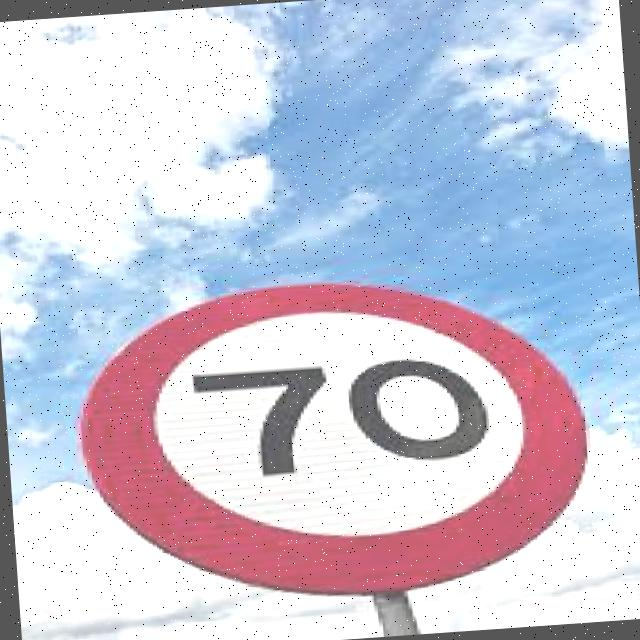Ograniczenie predkosci do 70: (105, 286, 574, 592)
